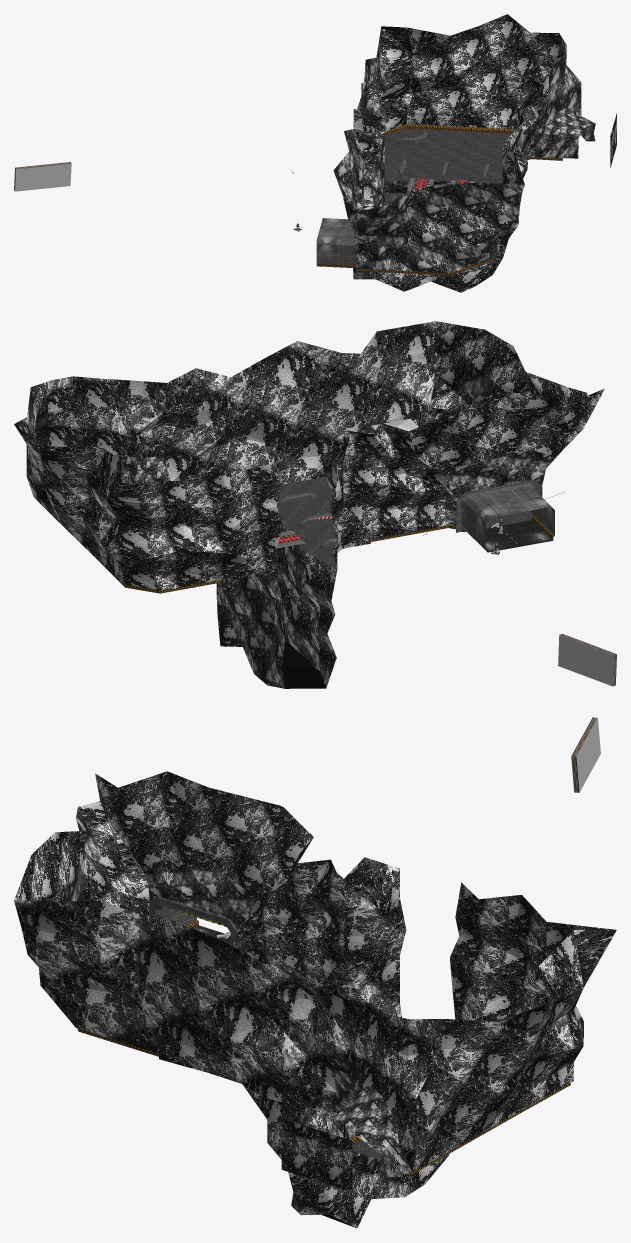
The model's file is dam2.obj.
3 views of the same model, one above another, from view 1: azimuth 30°, elevation 25°; view 2: azimuth 150°, elevation 25°; view 3: azimuth 270°, elevation 25° (orthographic). The views are drawn at different scales.
Parts seen in each view (by area): view 1: 176_250FD62A_c.bmp, 150_250FD62A_c.bmp, 174_58933A3F_c.bmp, 161_250FD62A_c.bmp, 000_5CCB531F_c.bmp, 001_25813CA2_c.bmp, 173_5C1FB8A7_c.bmp, 170_627FB7EF_c.bmp, 171_7CD80898_c.bmp, 175_255D277A_c.bmp, 139_5C1FB8A7_c.bmp; view 2: 150_250FD62A_c.bmp, 176_250FD62A_c.bmp, 161_250FD62A_c.bmp, 143_58933A3F_c.bmp, 001_25813CA2_c.bmp, 000_5CCB531F_c.bmp, 151_default, 170_627FB7EF_c.bmp, 171_7CD80898_c.bmp, 003_4B5E8995_c.bmp, 148_255D277A_c.bmp, 004_1072F0CB_c.bmp; view 3: 150_250FD62A_c.bmp, 176_250FD62A_c.bmp, 161_250FD62A_c.bmp, 001_25813CA2_c.bmp.
Part boxes in pixels (x1=…): 176_250FD62A_c.bmp: x1=357, y1=14, x2=616, y2=167; 150_250FD62A_c.bmp: x1=333, y1=108, x2=524, y2=273; 174_58933A3F_c.bmp: x1=384, y1=128, x2=563, y2=183; 161_250FD62A_c.bmp: x1=353, y1=92, x2=531, y2=292; 000_5CCB531F_c.bmp: x1=316, y1=218, x2=343, y2=261; 001_25813CA2_c.bmp: x1=316, y1=219, x2=358, y2=271; 173_5C1FB8A7_c.bmp: x1=385, y1=124, x2=562, y2=160; 170_627FB7EF_c.bmp: x1=15, y1=163, x2=71, y2=191; 171_7CD80898_c.bmp: x1=15, y1=169, x2=71, y2=185; 175_255D277A_c.bmp: x1=396, y1=131, x2=488, y2=179; 139_5C1FB8A7_c.bmp: x1=358, y1=258, x2=494, y2=275; 150_250FD62A_c.bmp: x1=264, y1=321, x2=604, y2=568; 176_250FD62A_c.bmp: x1=14, y1=368, x2=282, y2=590; 161_250FD62A_c.bmp: x1=194, y1=358, x2=337, y2=688; 143_58933A3F_c.bmp: x1=276, y1=476, x2=533, y2=569; 001_25813CA2_c.bmp: x1=456, y1=479, x2=554, y2=548; 000_5CCB531F_c.bmp: x1=475, y1=496, x2=554, y2=543; 151_default: x1=282, y1=641, x2=325, y2=688; 170_627FB7EF_c.bmp: x1=558, y1=635, x2=613, y2=686; 171_7CD80898_c.bmp: x1=558, y1=642, x2=613, y2=678; 003_4B5E8995_c.bmp: x1=485, y1=530, x2=552, y2=552; 148_255D277A_c.bmp: x1=277, y1=492, x2=335, y2=548; 004_1072F0CB_c.bmp: x1=485, y1=520, x2=541, y2=540; 150_250FD62A_c.bmp: x1=14, y1=771, x2=406, y2=1083; 176_250FD62A_c.bmp: x1=281, y1=882, x2=616, y2=1191; 161_250FD62A_c.bmp: x1=223, y1=941, x2=449, y2=1227; 001_25813CA2_c.bmp: x1=149, y1=896, x2=238, y2=946.
Size of the model in its own units: 1.9 by 0.6968 by 1.21.
